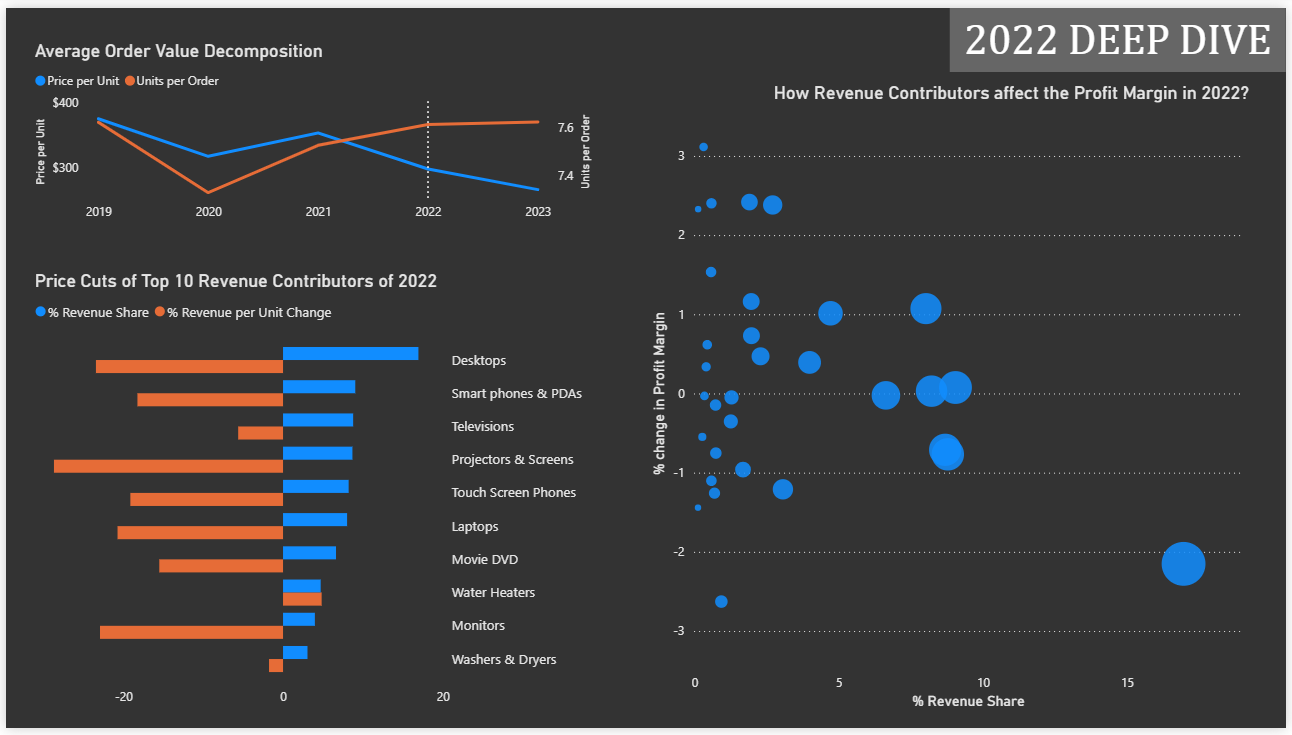

The page's visual inventory and layout, read from the dashboard file:
{"tool":"powerbi","page":{"name":"Page 2","canvas":[1280,720],"ordinal":1},"visuals":[{"type":"textbox","box":[944.3,0,335.7,64.3],"z":0},{"type":"lineChart","title":"Average Order Value Decomposition","fields":{"Category":["public price_and_unit_changes.order_year"],"Y":["Sum(public price_and_unit_changes.price_per_unit)"],"Y2":["Sum(public price_and_unit_changes.units_per_order)"]},"box":[24.3,32.9,567.1,190],"z":1000},{"type":"clusteredBarChart","title":"Price Cuts of Top 10 Revenue Contributors of 2022","fields":{"Category":["public sub_category_details.subcategoryname"],"Y":["Sum(public sub_category_details.revenue_share)","Sum(public sub_category_details.revenu_per_unit_change)"]},"box":[24.3,262.9,567.1,444.3],"z":2000},{"type":"scatterChart","title":"How Revenue Contributors affect the Profit Margin in 2022?","fields":{"Y":["Sum(public sub_category_details.profit_margin_change)"],"X":["Sum(public sub_category_details.revenue_share)"],"Category":["public sub_category_details.revenue_per_unit"],"Size":["Sum(public sub_category_details.revenue_share)"]},"box":[640,74.3,608.6,632.9],"z":3000}]}

Visuals, with their boxes in screenshot pixels (x1, y1, x2, y2), scaled from the page's 1280x720 canvas onto the 1292x735 screenshot:
textbox: [x1=953, y1=0, x2=1291, y2=66]
"Average Order Value Decomposition" lineChart: [x1=25, y1=34, x2=597, y2=228]
"Price Cuts of Top 10 Revenue Contributors of 2022" clusteredBarChart: [x1=25, y1=268, x2=597, y2=722]
"How Revenue Contributors affect the Profit Margin in 2022?" scatterChart: [x1=646, y1=76, x2=1260, y2=722]
